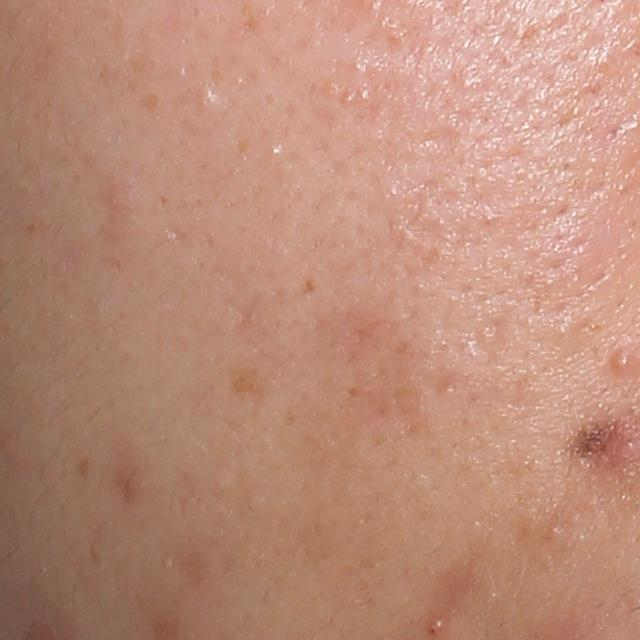atrophic_scar: (435, 372, 469, 398), (164, 227, 190, 245)
comedo: (197, 80, 216, 110), (549, 521, 564, 535)
nevus: (572, 418, 628, 470)
pustule: (614, 348, 632, 371)
